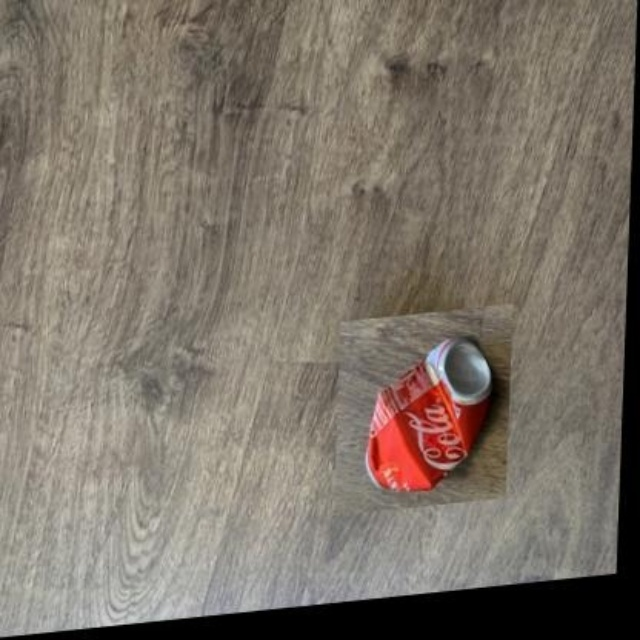trash: (366, 338, 491, 489)
